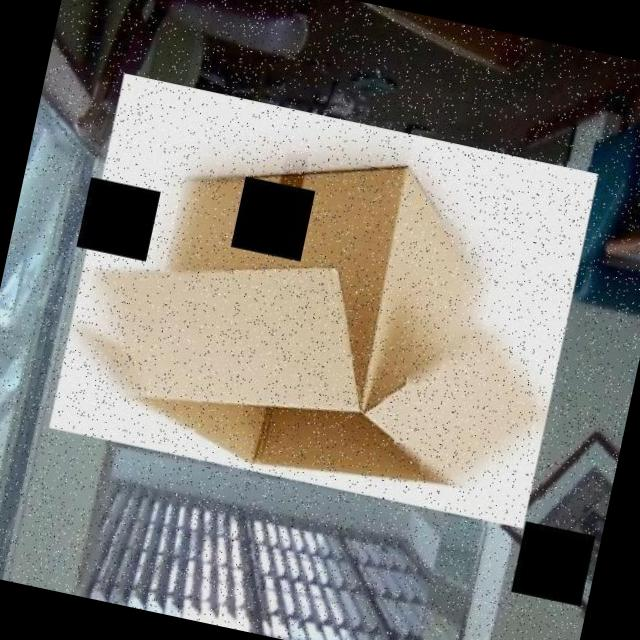box: (41, 66, 610, 536)
